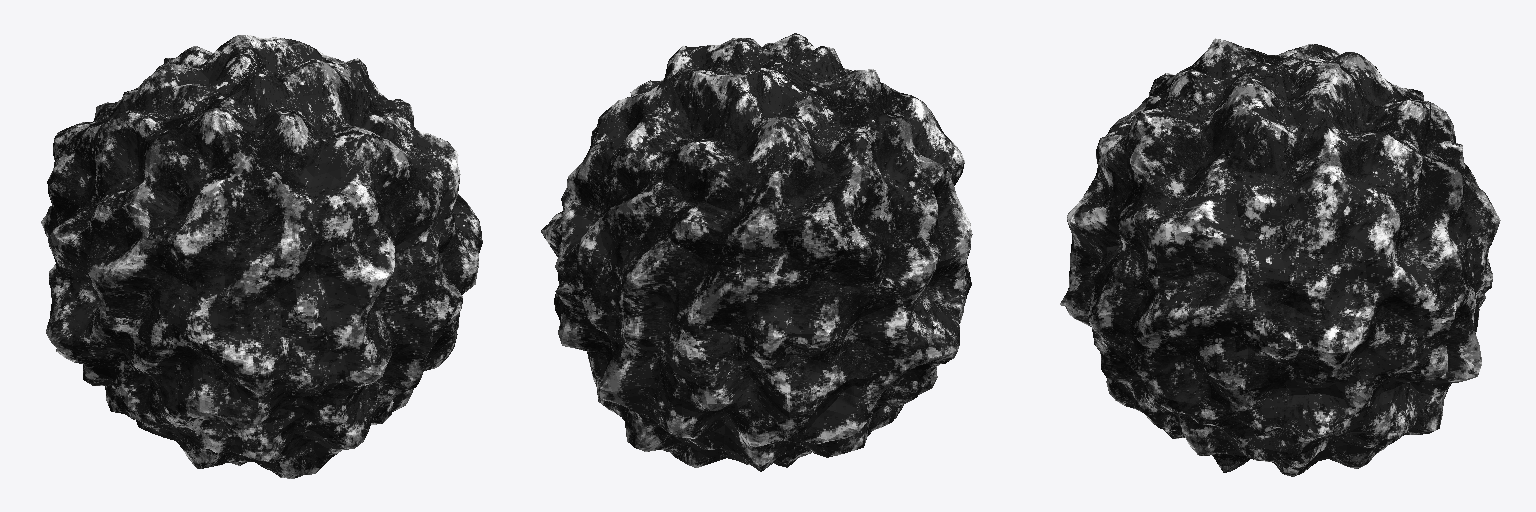
3 views of the same model, side by side, from view 1: azimuth 30°, elevation 25°; view 2: azimuth 150°, elevation 25°; view 3: azimuth 270°, elevation 25° (orthographic).
Parts seen in each view (by area): view 1: Asteroid_1; view 2: Asteroid_1; view 3: Asteroid_1.
Part boxes in pixels (bbox=[...]): Asteroid_1: bbox=[41, 35, 482, 478]; Asteroid_1: bbox=[541, 33, 972, 471]; Asteroid_1: bbox=[1060, 38, 1500, 476].
Size of the model in its own units: 25.2 by 24.05 by 24.4.
1 materials, 1 textured.